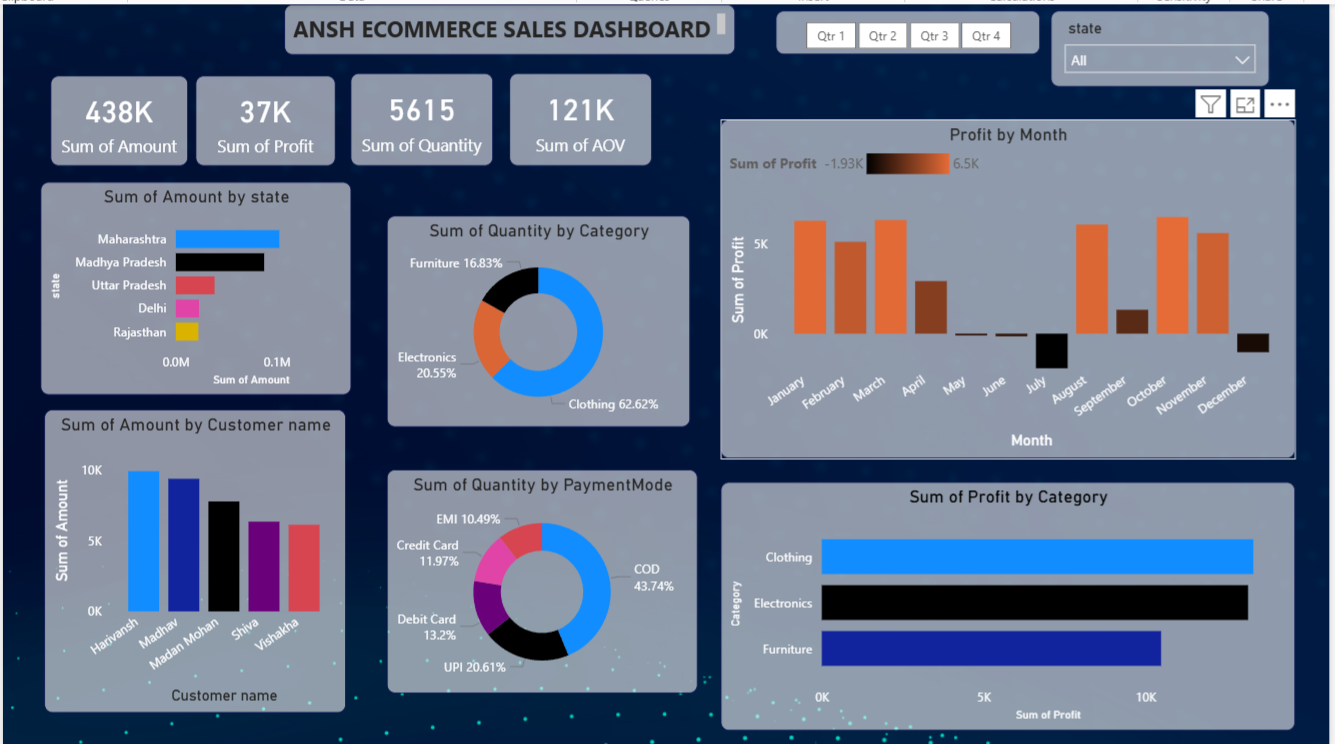

This screenshot's page, from the dashboard's own definition file:
{"tool":"powerbi","page":{"name":"Page 1","canvas":[1280,720],"ordinal":0},"visuals":[{"type":"textbox","box":[271.2,0,435,48.8],"z":0},{"type":"columnChart","title":" Profit by Month","fields":{"Category":["Orders.ORDER DATE.Variation.Date Hierarchy.Month"],"Y":["Details.Profit"]},"box":[692.9,111.4,554.3,327.1],"z":1000},{"type":"barChart","fields":{"Category":["Details.Category"],"Y":["Details.Profit"]},"box":[692.9,461.4,554.3,240],"z":2000},{"type":"donutChart","fields":{"Category":["Details.Category"],"Y":["Details.Quantity"]},"box":[370,204.3,292.9,204.3],"z":3000},{"type":"donutChart","fields":{"Y":["Details.Quantity"],"Category":["Details.PaymentMode"]},"box":[370,448.6,300,215.7],"z":4000},{"type":"card","fields":{"Values":["Details.Amount"]},"box":[45.5,68.2,133,87.5],"z":5000},{"type":"card","fields":{"Values":["Details.Profit"]},"box":[186.4,68.2,135.2,87.5],"z":6000},{"type":"card","fields":{"Values":["Details.Quantity"]},"box":[335.2,65.9,137.5,89.8],"z":7000},{"type":"card","fields":{"Values":["Details.AOV"]},"box":[488.6,65.9,137.5,89.8],"z":8000},{"type":"barChart","fields":{"Y":["Details.Amount"],"Category":["Orders.state"]},"box":[35.7,171.4,300,205.7],"z":9000},{"type":"columnChart","fields":{"Category":["Orders.Customer name"],"Y":["Details.Amount"]},"box":[40,391.4,291.4,292.9],"z":10000},{"type":"slicer","fields":{"Values":["Orders.ORDER DATE.Variation.Date Hierarchy.Quarter"]},"box":[745,6.2,255,42.5],"z":11000},{"type":"slicer","fields":{"Values":["Orders.state"]},"box":[1011.2,6.2,211.2,73.8],"z":12000}]}

Visuals, with their boxes in screenshot pixels (x1, y1, x2, y2), scaled from the page's 1280x720 canvas onto the 1335x744 screenshot:
textbox: <box>283,0,737,50</box>
" Profit by Month" columnChart: <box>723,115,1301,453</box>
barChart - Details.Category x Details.Profit: <box>723,477,1301,725</box>
donutChart - Details.Category x Details.Quantity: <box>386,211,691,422</box>
donutChart - Details.Quantity x Details.PaymentMode: <box>386,464,699,686</box>
card - Details.Amount: <box>47,70,186,161</box>
card - Details.Profit: <box>194,70,335,161</box>
card - Details.Quantity: <box>350,68,493,161</box>
card - Details.AOV: <box>510,68,653,161</box>
barChart - Details.Amount x Orders.state: <box>37,177,350,390</box>
columnChart - Orders.Customer name x Details.Amount: <box>42,404,346,707</box>
slicer - Orders.ORDER DATE.Variation.Date Hierarchy.Quarter: <box>777,6,1043,50</box>
slicer - Orders.state: <box>1055,6,1275,83</box>
